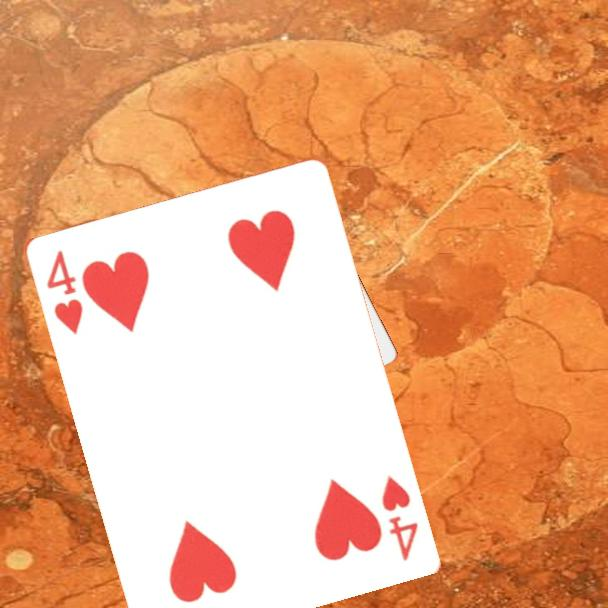h04: (377, 471, 421, 564), (42, 246, 85, 338)
